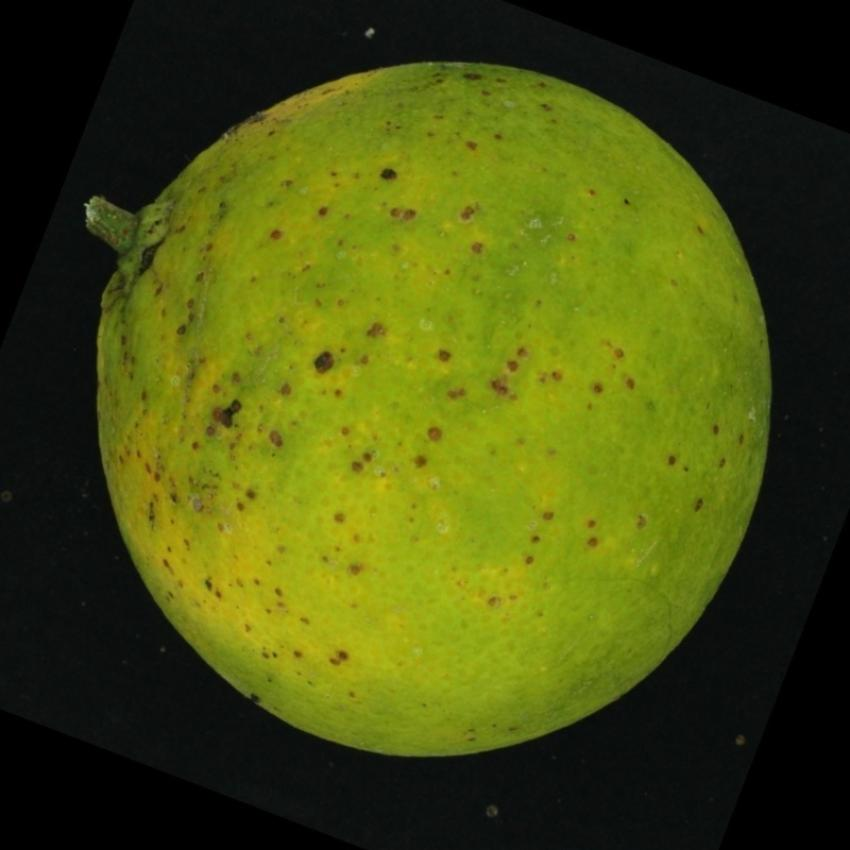Mal estado: (54, 51, 800, 766)
